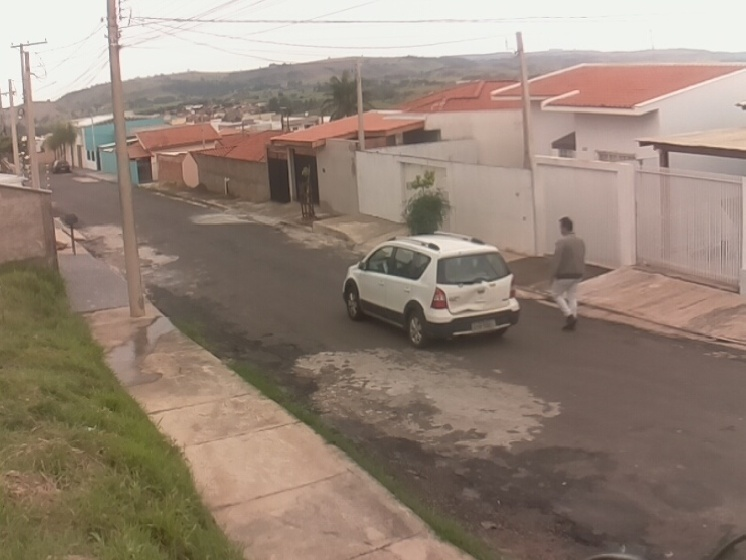person: (547, 216, 588, 332)
